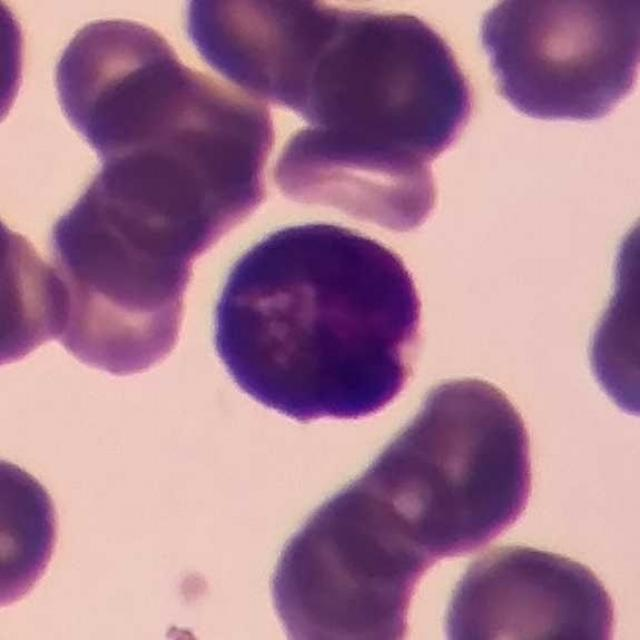Eosinophil: (197, 205, 440, 437)
Platelets: (160, 621, 205, 640)
RBC: (362, 368, 545, 558), (305, 5, 487, 174), (88, 56, 276, 209), (43, 148, 216, 311), (37, 206, 198, 381), (259, 479, 426, 640), (267, 111, 446, 235), (472, 0, 640, 129), (434, 536, 627, 640), (47, 10, 187, 150), (175, 0, 335, 104), (571, 226, 640, 445), (0, 203, 78, 377), (0, 443, 72, 622), (1, 0, 37, 152)
